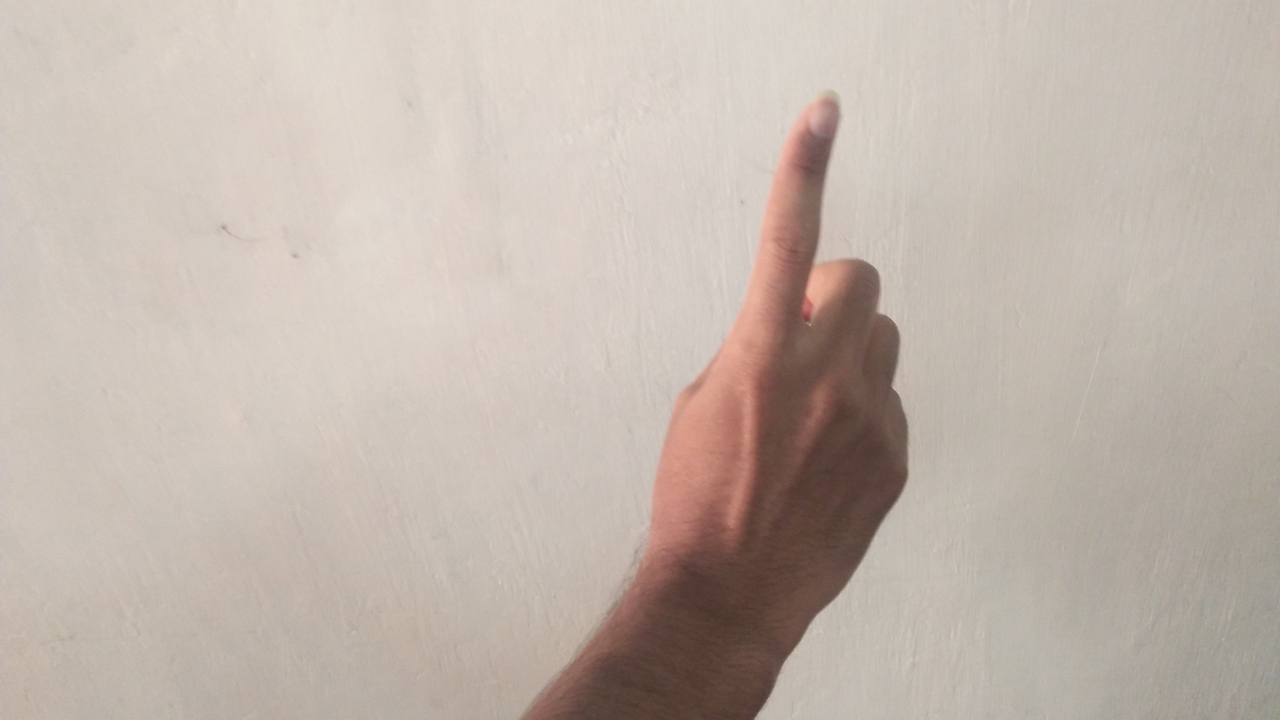fingertip: (788, 84, 852, 140)
